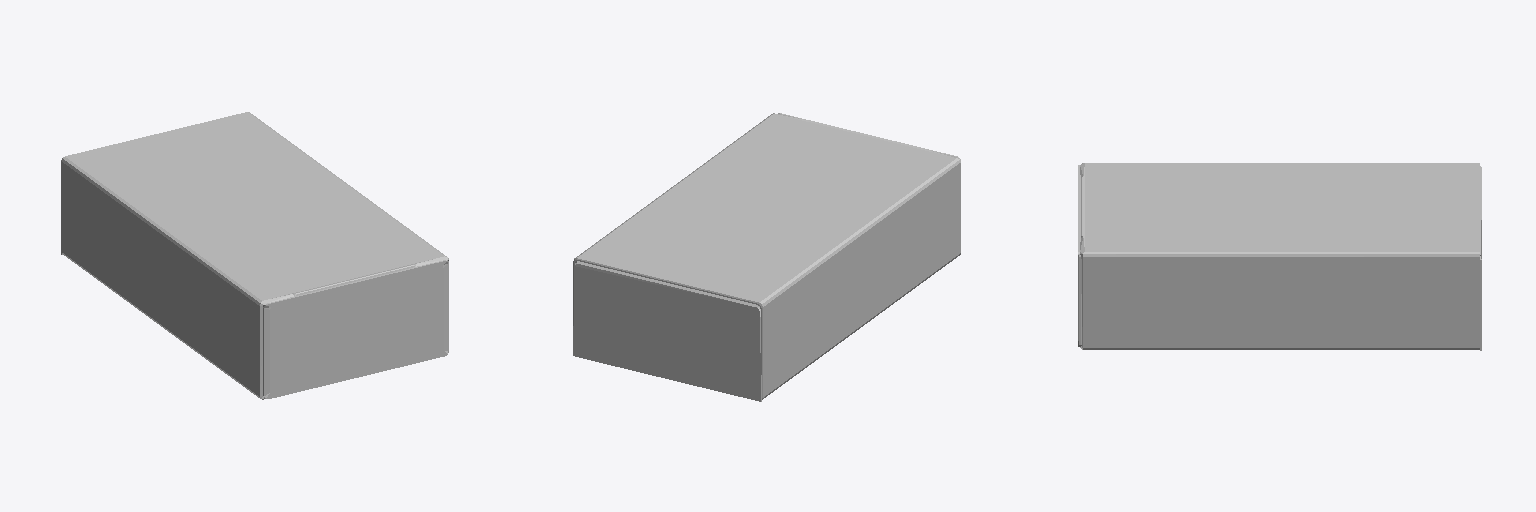
File: GlockAmmoBox.obj
3 views of the same model, side by side, from view 1: azimuth 30°, elevation 25°; view 2: azimuth 150°, elevation 25°; view 3: azimuth 270°, elevation 25° (orthographic).
Visible parts, largest first — view 1: Ammobox_close; view 2: Ammobox_close; view 3: Ammobox_close.
Boxes of the visible parts, <box> form: Ammobox_close: <box>61,112,448,399</box>; Ammobox_close: <box>573,113,960,401</box>; Ammobox_close: <box>1078,163,1481,350</box>.
Bounding box in the file's own units: 0.1162 × 0.0577 × 0.2141.